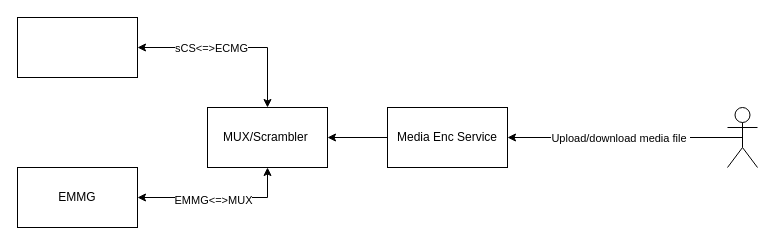
Image size: 775x245. Some labels were removed from this diagram. The shapes that lost their labels are listed below. From the top down, each one's box as (x1, y1, x2, y2) in pixels, then its label:
(16, 16, 138, 78): ECMG
(726, 106, 758, 168): User
